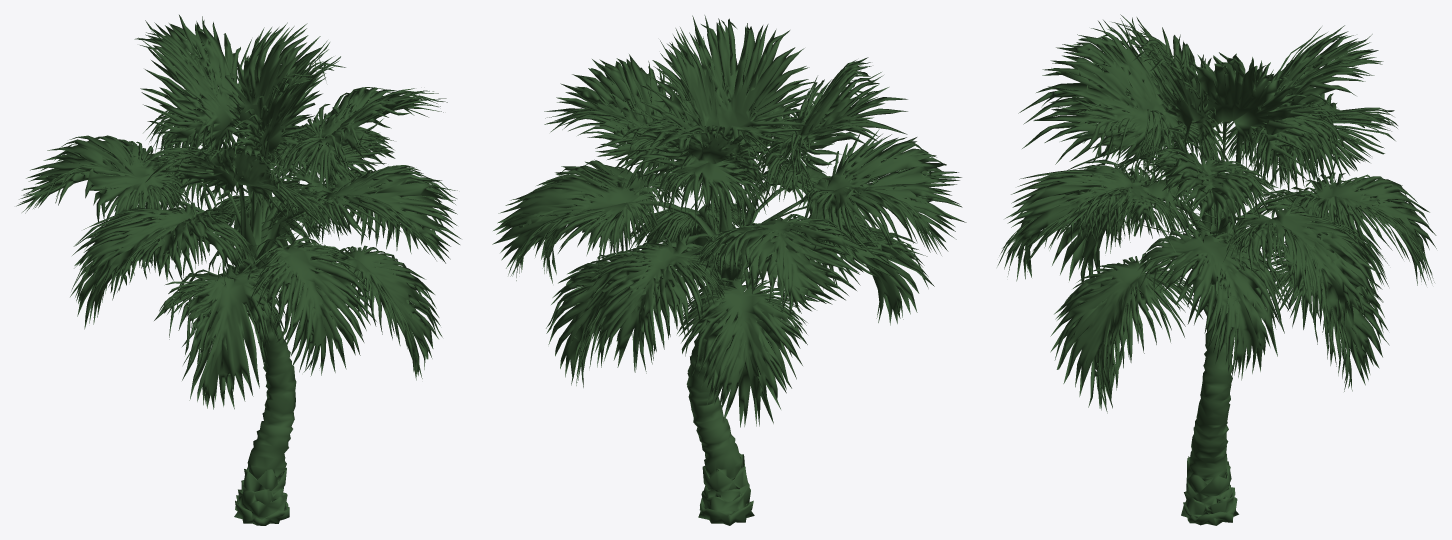
Rendered from gen-palm-tree-1.glb.
The picture shows the model from 3 angles, left to right: view 1: azimuth 30°, elevation 25°; view 2: azimuth 150°, elevation 25°; view 3: azimuth 270°, elevation 25°; orthographic projection. The views are drawn at different scales.
Parts seen in each view (by area): view 1: gen-palm-tree-1_part1; view 2: gen-palm-tree-1_part1; view 3: gen-palm-tree-1_part1.
Boxes of the visible parts, bbox=[...] form: gen-palm-tree-1_part1: bbox=[16, 15, 460, 525]; gen-palm-tree-1_part1: bbox=[492, 15, 966, 525]; gen-palm-tree-1_part1: bbox=[997, 14, 1436, 525].
Bounding box in the file's own units: 5552 × 6400 × 5229.
